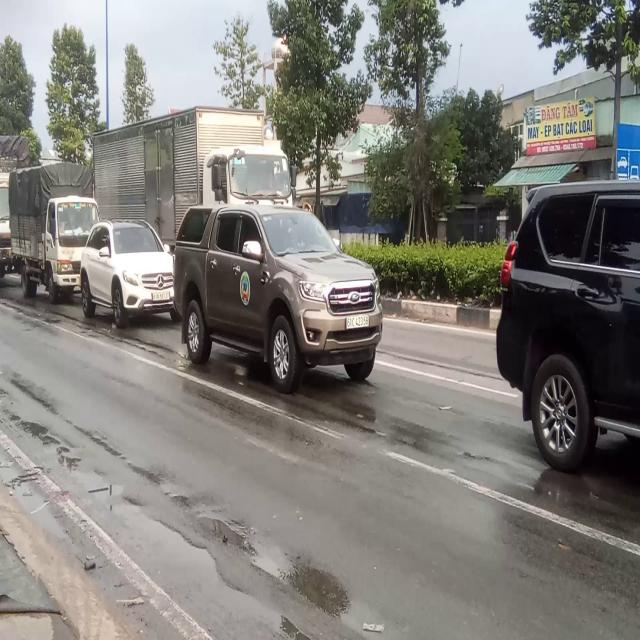bien_trang: (342, 313, 373, 332), (150, 287, 172, 306)
